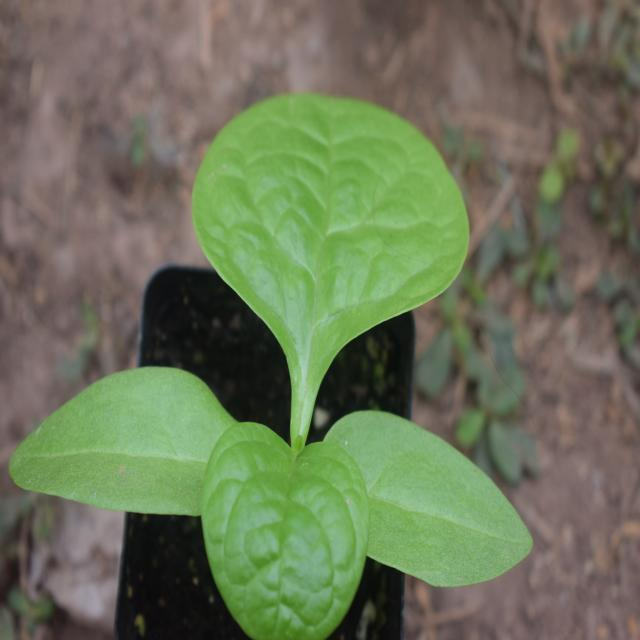Ceylon spinach: (43, 76, 526, 616)
